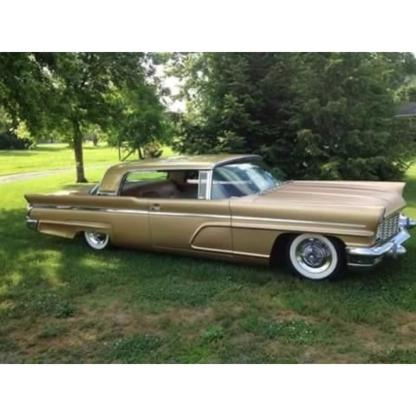Car: (24, 154, 411, 282)
